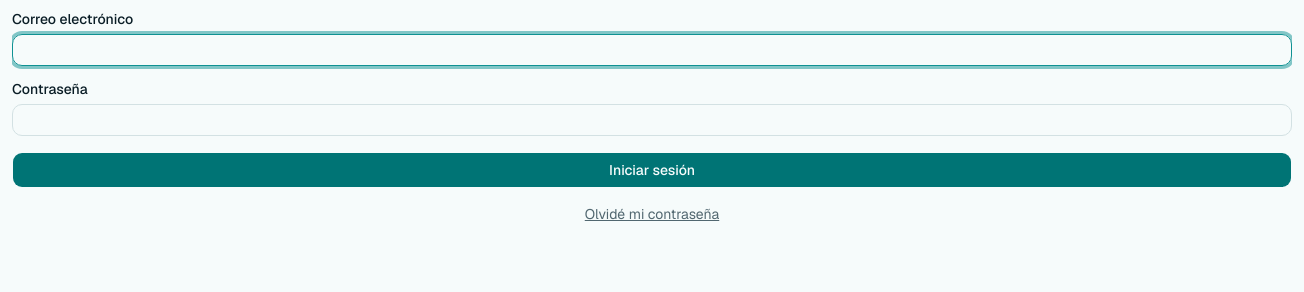
Test: LoginForm › traduce el error de Supabase {"message":"Email not confirmed"}
This screenshot has width=1304, height=292.
In the field labelled "Correo electrónico": [652, 50] box [12,34,1292,66], type "dentista@demo.local"
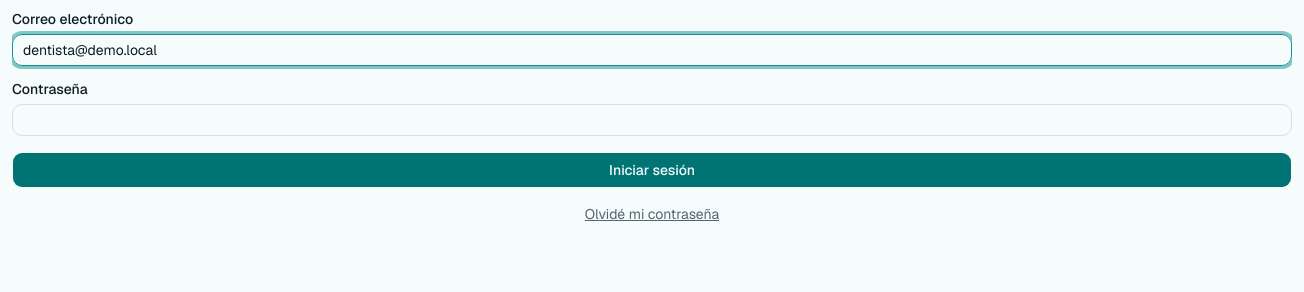
In the password field labelled "Contraseña": [652, 120] box [12,104,1292,136], type "mala"
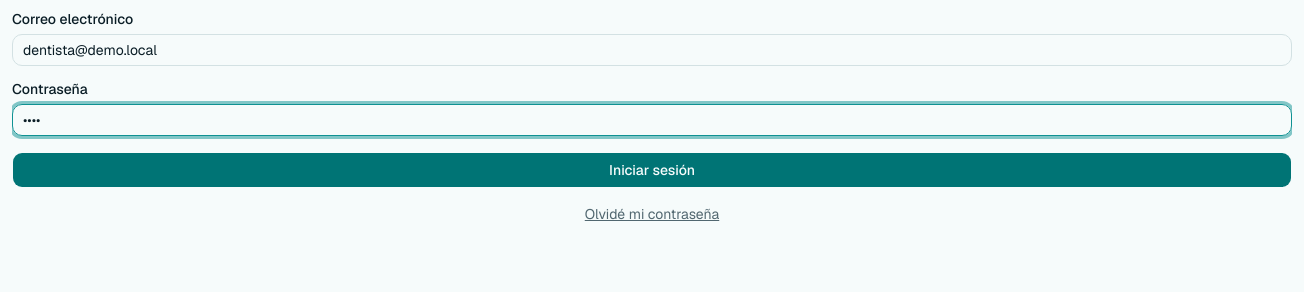
Click the button "Iniciar sesión": [652, 170] box [12,152,1292,188]
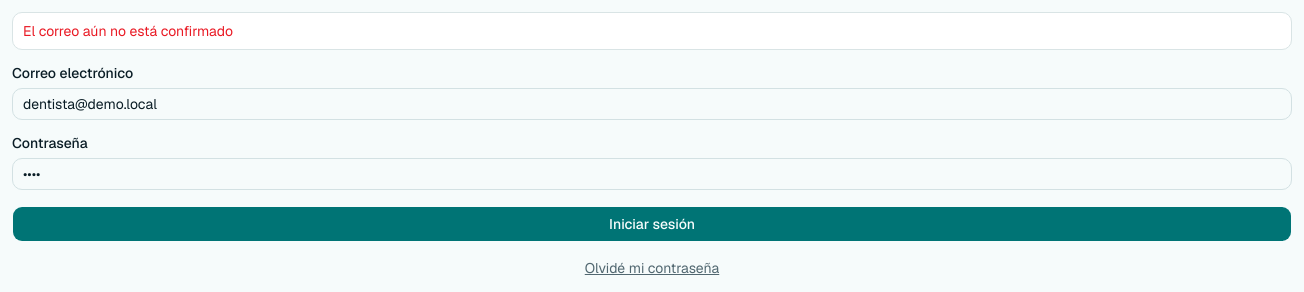
Expected: the button "Iniciar sesión" is enabled, [12,206,1292,242]
Expected: the text "El correo aún no está confirmado" is shown, [23,22,233,40]
